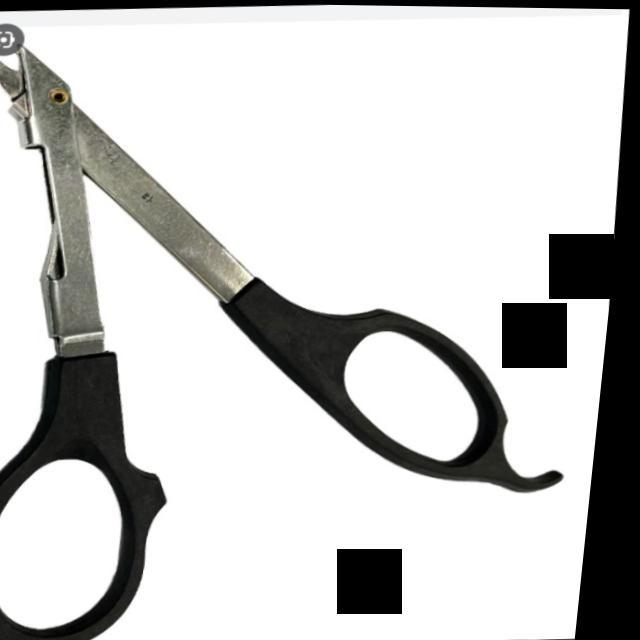Stapler Remover: (0, 20, 614, 640)
